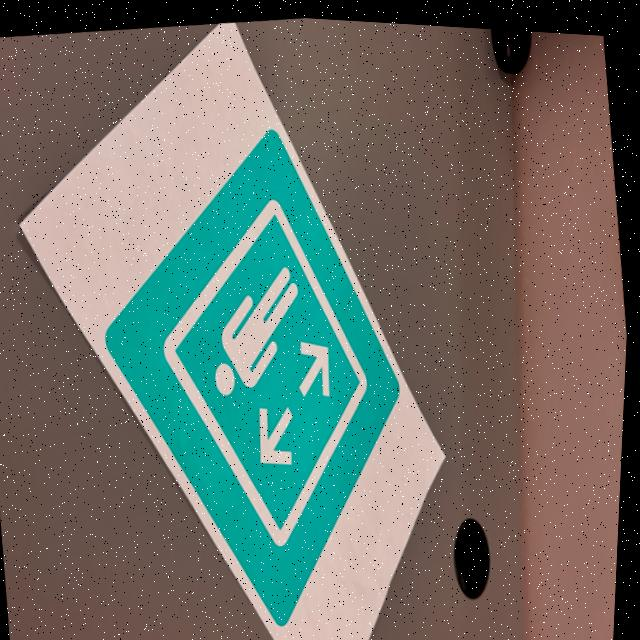elevator: (100, 133, 397, 628)
